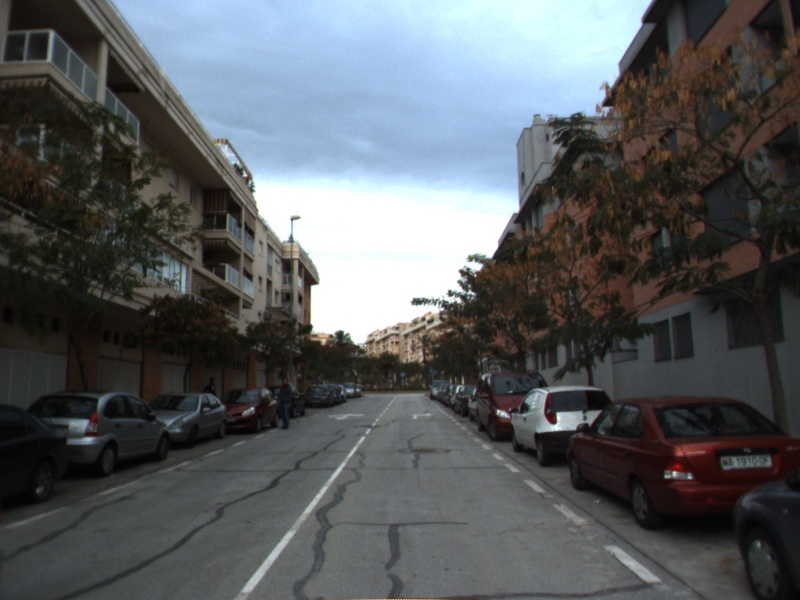RIGHT: (410, 411, 435, 421)
